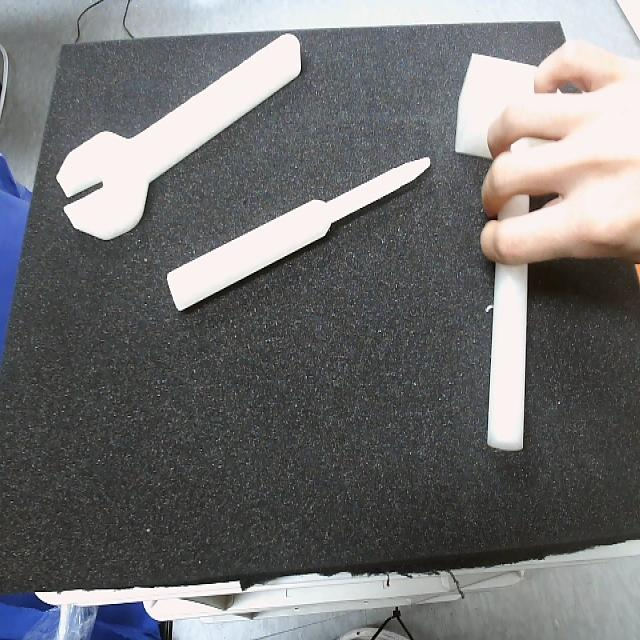Driver: (166, 159, 432, 313)
Spanner: (55, 35, 301, 241)
